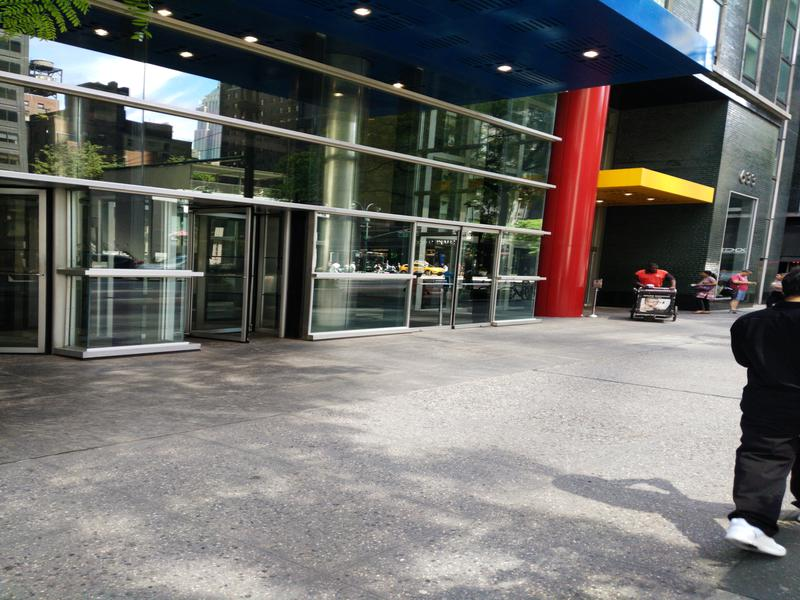double_door: (412, 215, 497, 335)
revolving_door: (186, 196, 291, 346)
